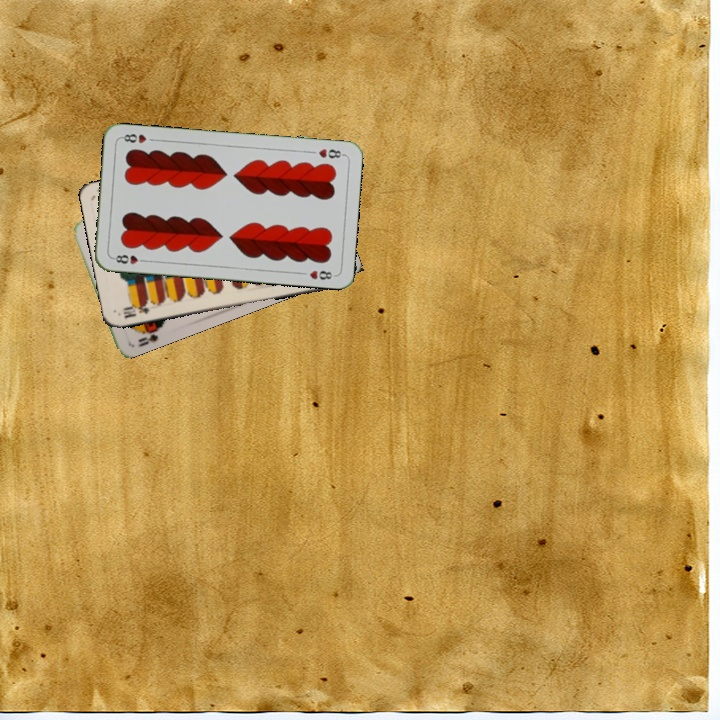E10: (119, 298, 151, 321)
H8: (109, 251, 149, 267), (314, 145, 347, 161)
SO: (133, 320, 166, 350)
